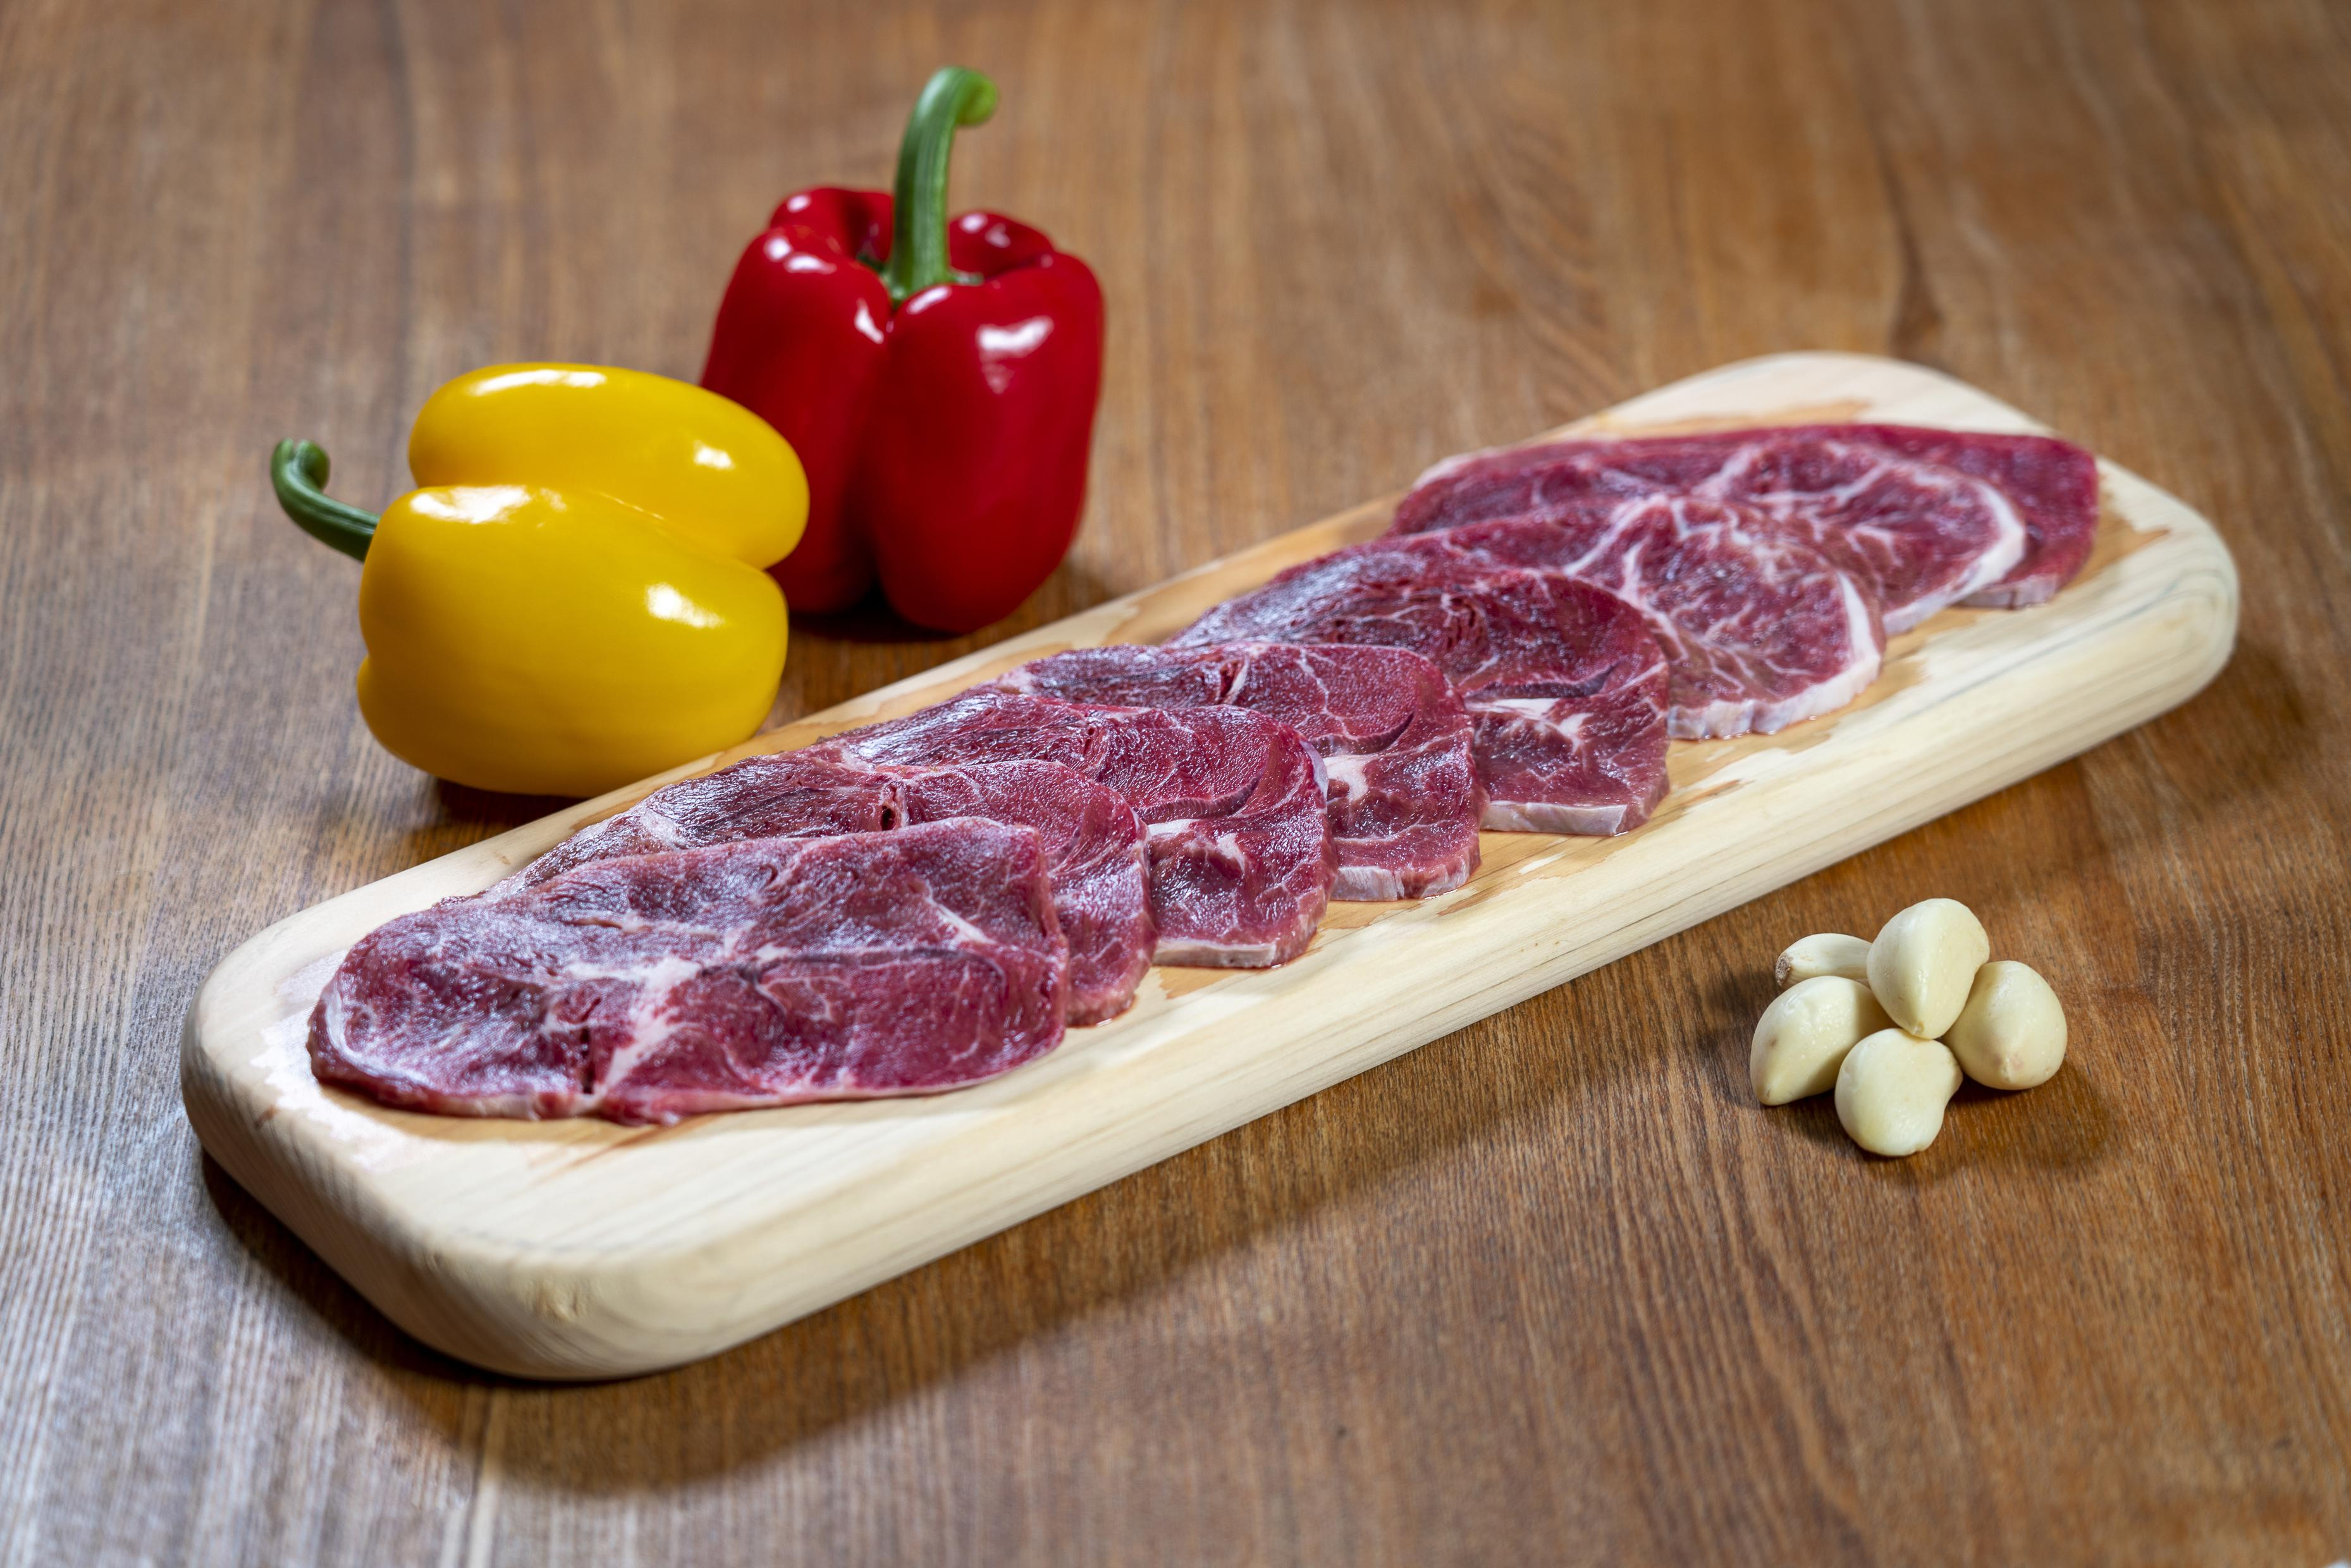beef: (1175, 1015, 2351, 1568), (1175, 1141, 2351, 1568)
